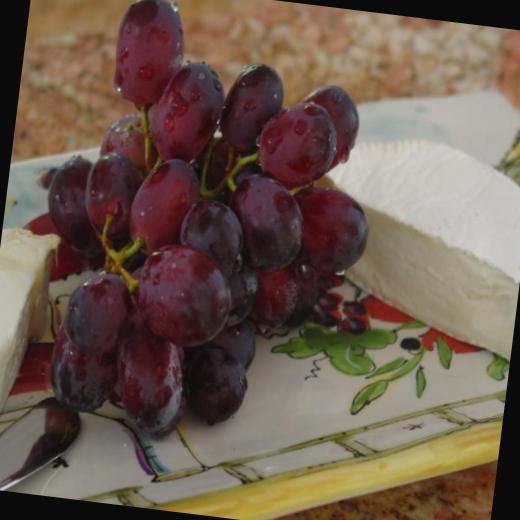Orange: (16, 0, 393, 459)
